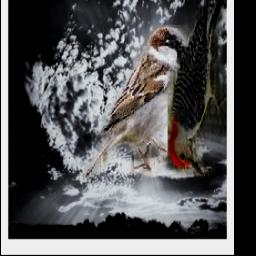Sparrow: (85, 25, 191, 177)
Woodpecker: (169, 0, 228, 176)
